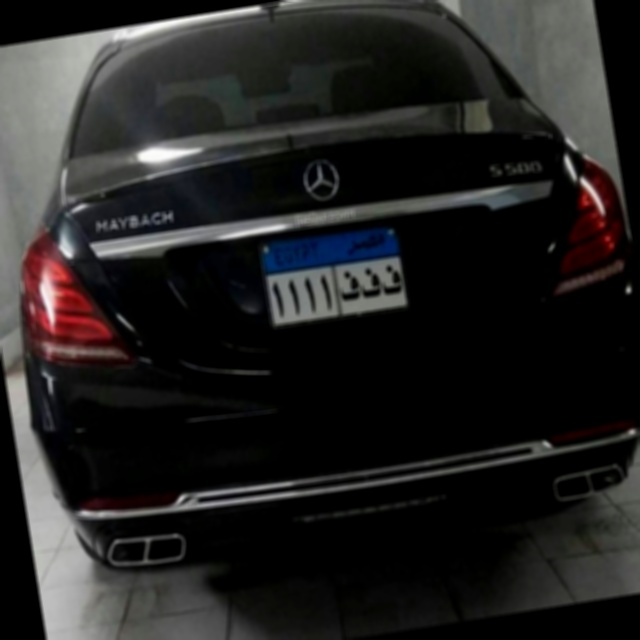License Plate: (256, 216, 413, 335)
